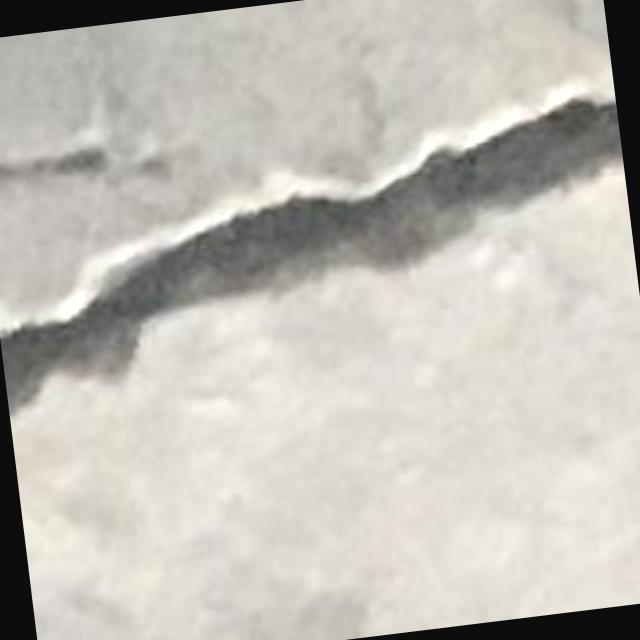crack: (0, 98, 623, 412)
